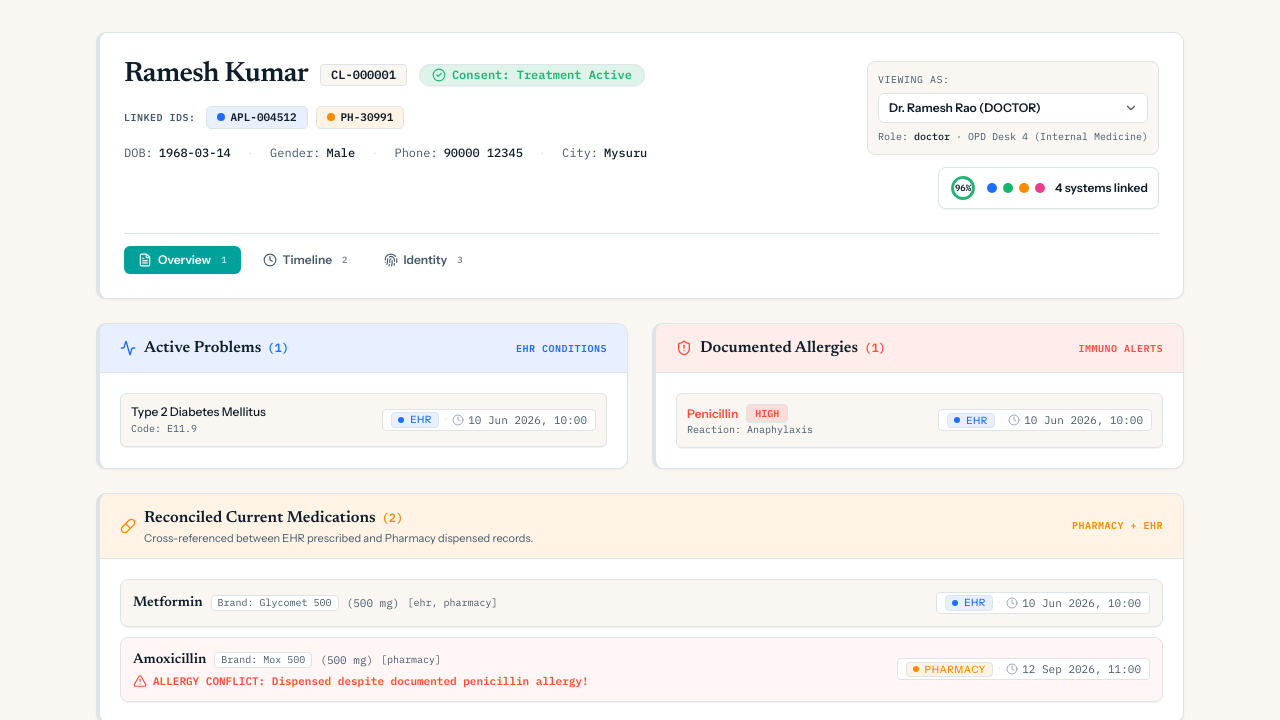
it: PatientDetailPage › renders Identity tab with Why linked line and mono confidence
Click the button with test id "tab-identity".
click(423, 260)  # box left=370, top=246, right=477, bottom=274
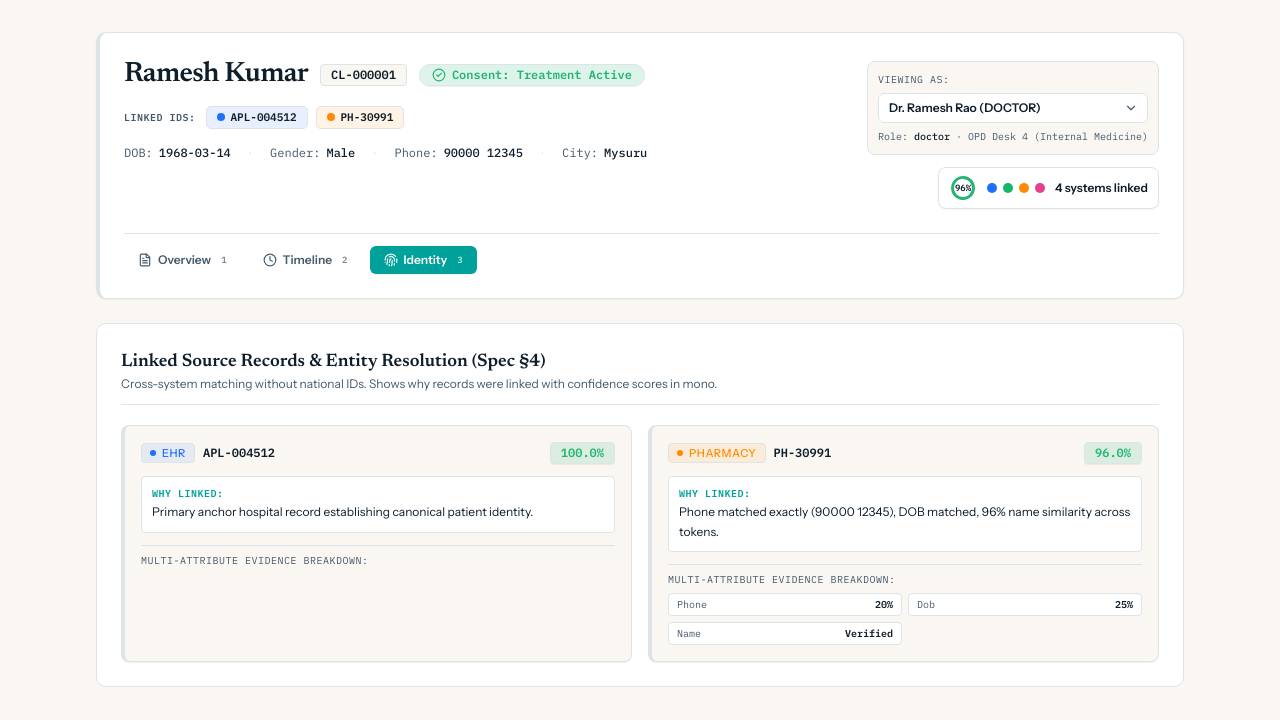
Result: the element with test id "tab-identity-content" is shown at left=96, top=323, right=1184, bottom=687
Result: the text "Why linked:" below "100.0%" is shown at left=152, top=487, right=224, bottom=500
Result: the text "100.0%" is shown at left=550, top=442, right=615, bottom=464
